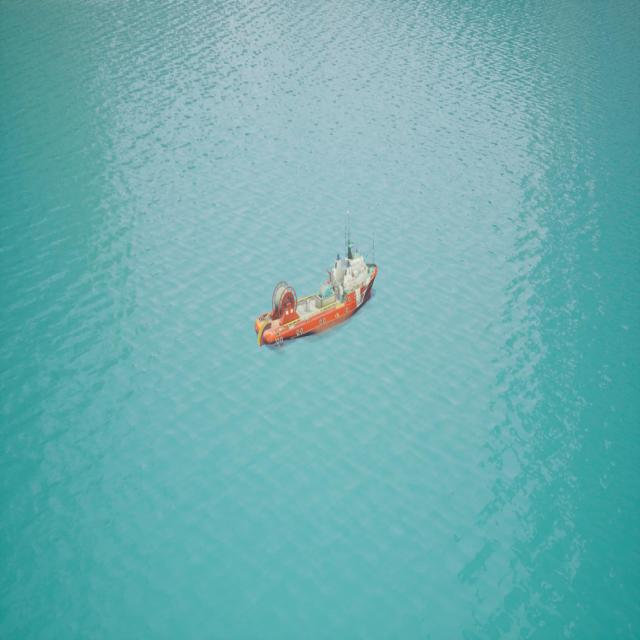tug boat: (256, 247, 377, 350)
